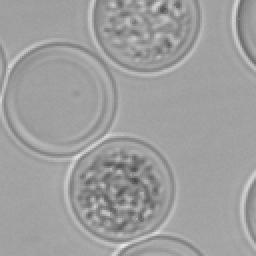picoshell: (2, 40, 118, 156), (66, 134, 174, 246), (88, 0, 202, 76), (116, 232, 202, 254), (230, 0, 254, 70), (238, 168, 254, 250)
